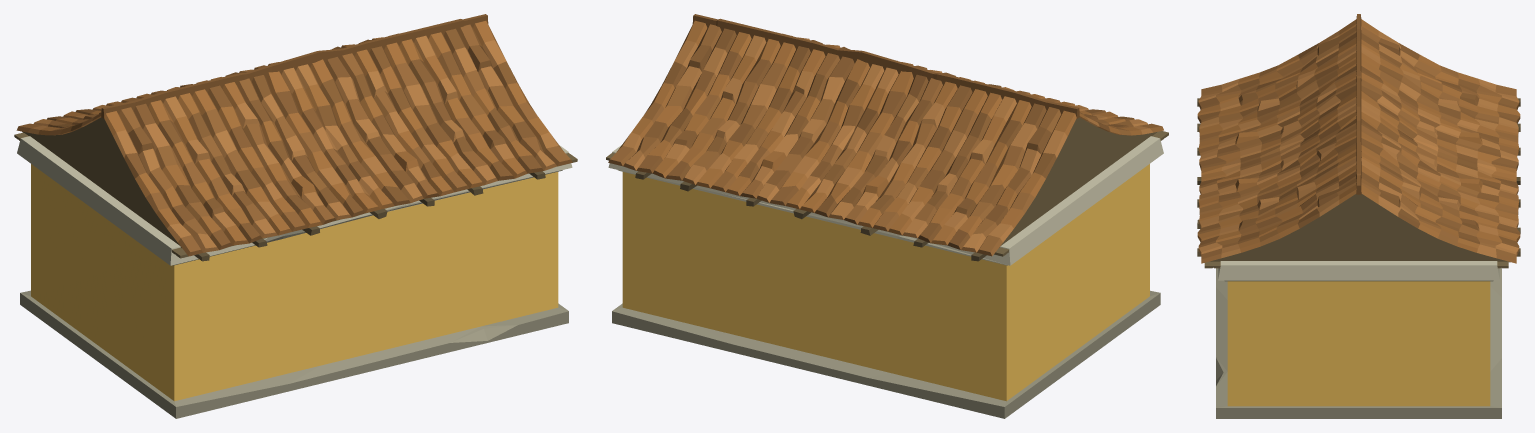
The model's file is BuildingBase_8.fbx.
3 views of the same model, side by side, from view 1: azimuth 30°, elevation 25°; view 2: azimuth 150°, elevation 25°; view 3: azimuth 270°, elevation 25° (orthographic). The views are drawn at different scales.
Visible parts, largest first — view 1: BuildingBase_8; view 2: BuildingBase_8; view 3: BuildingBase_8.
Boxes of the visible parts, <box> form: BuildingBase_8: <box>14,14,577,418</box>; BuildingBase_8: <box>606,14,1168,418</box>; BuildingBase_8: <box>1197,14,1520,418</box>.
Bounding box in the file's own units: 890 × 543 × 677.
